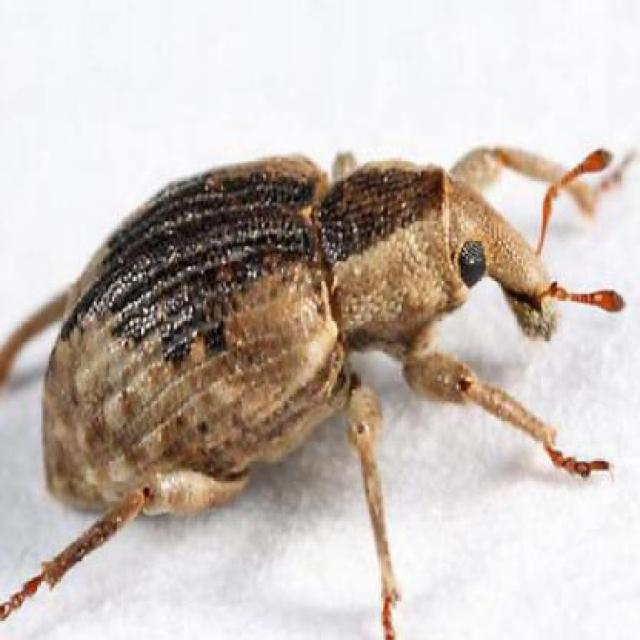rice-bug: (16, 148, 602, 594)
